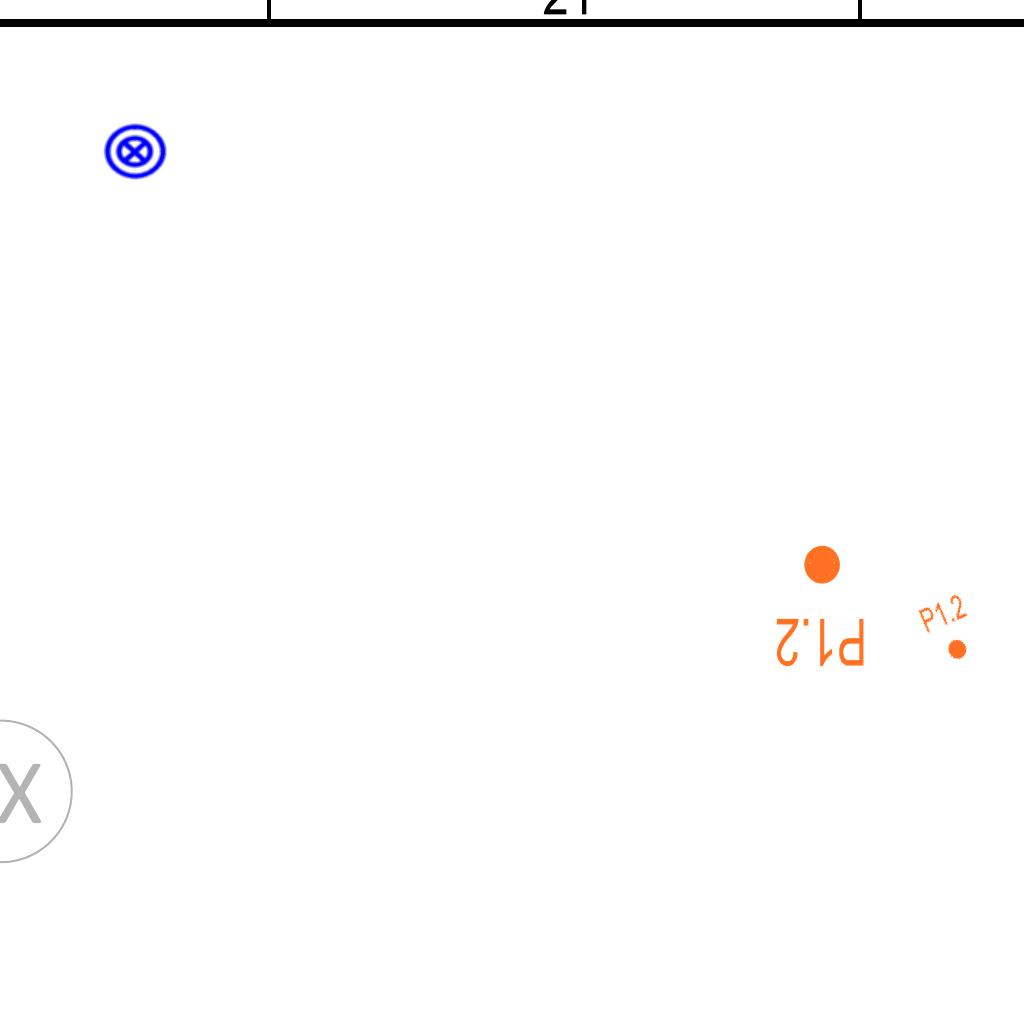Downlight_LED_Einbauleuchten_Flur: (774, 542, 867, 670), (916, 591, 984, 669)
Taster_beleuchtet: (102, 119, 168, 185)
